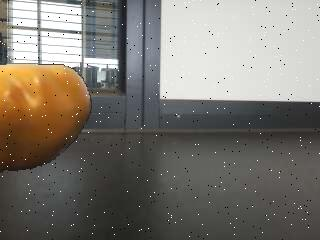Potato: (0, 63, 92, 172)
